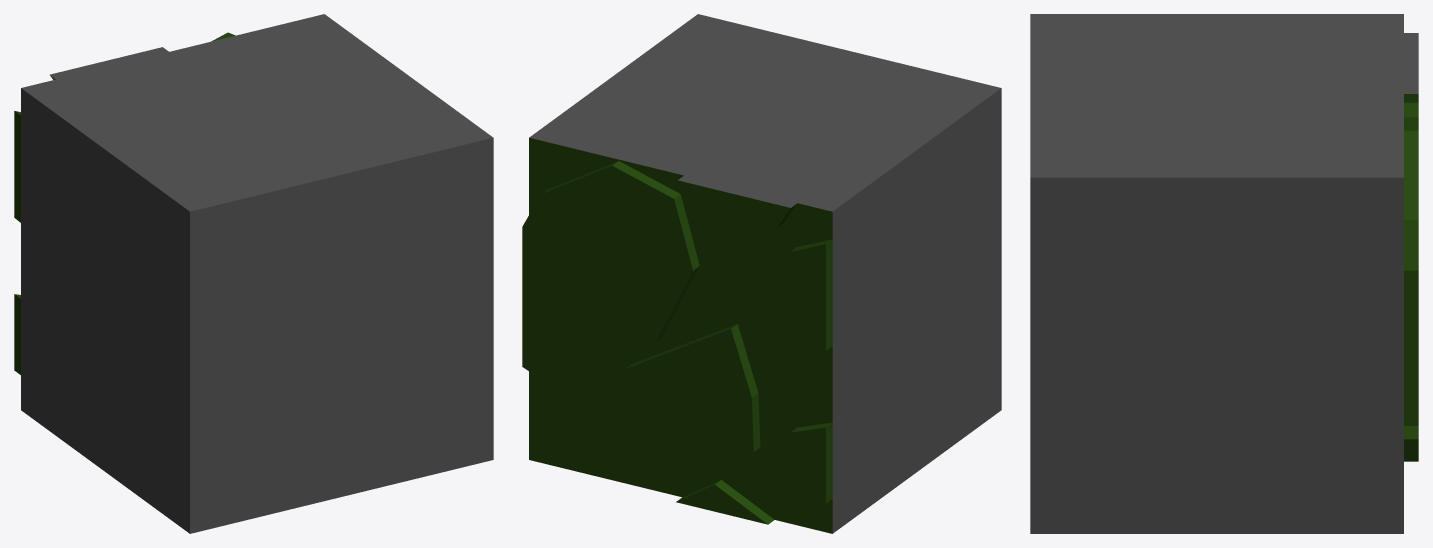
The model's file is TL Floor.fbx.
The picture shows the model from 3 angles, left to right: view 1: azimuth 30°, elevation 25°; view 2: azimuth 150°, elevation 25°; view 3: azimuth 270°, elevation 25°; orthographic projection. The views are drawn at different scales.
Parts seen in each view (by area): view 1: Top Left; view 2: Top Left; view 3: Top Left.
Boxes of the visible parts, x1=… form: Top Left: x1=14, y1=14, x2=493, y2=533; Top Left: x1=522, y1=14, x2=1001, y2=533; Top Left: x1=1030, y1=14, x2=1418, y2=533.
Size of the model in its own units: 99.79 by 101 by 100.
